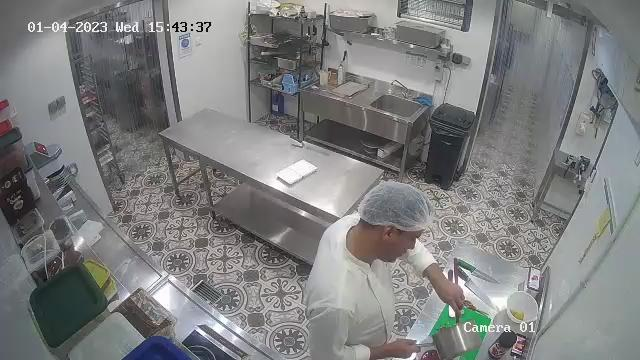no_apron: (336, 252, 399, 360)
